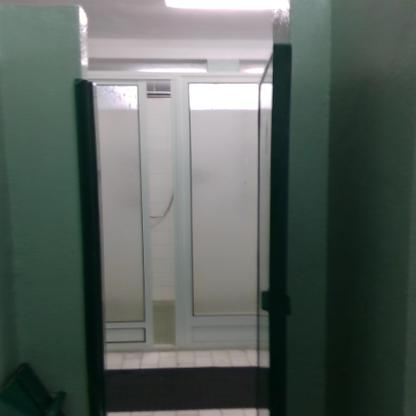closed: (170, 71, 295, 363)
open: (62, 39, 319, 416)
